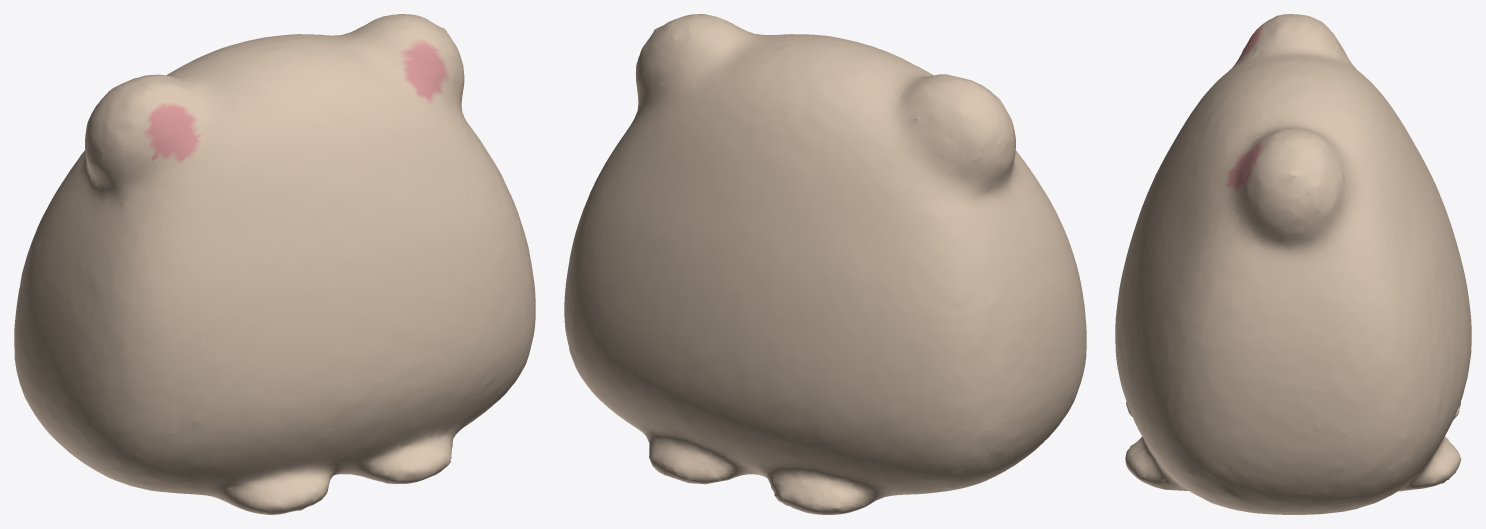
File: bear.glb
3 views of the same model, side by side, from view 1: azimuth 30°, elevation 25°; view 2: azimuth 150°, elevation 25°; view 3: azimuth 270°, elevation 25° (orthographic). The views are drawn at different scales.
Bounding box in the file's own units: 1.19 × 0.9886 × 0.8486.
